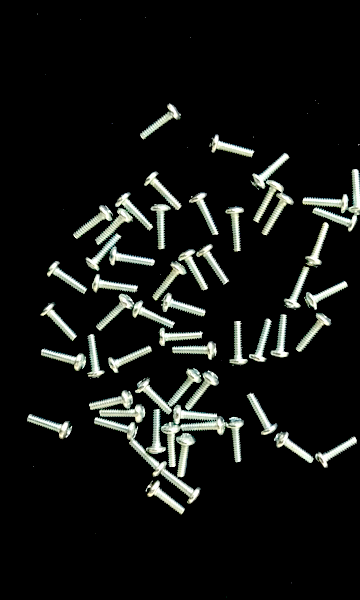shortscrew: (138, 103, 182, 140), (143, 170, 182, 211), (114, 192, 154, 231), (244, 392, 279, 436), (250, 153, 291, 190), (40, 301, 77, 342), (72, 204, 114, 240), (95, 294, 134, 332), (296, 313, 333, 353), (47, 261, 88, 297), (314, 437, 358, 470), (95, 207, 133, 245), (129, 439, 167, 477), (135, 378, 174, 415), (85, 233, 121, 273), (151, 262, 187, 302), (145, 481, 186, 516), (176, 249, 208, 293), (196, 243, 230, 284), (186, 370, 220, 411), (273, 431, 315, 464), (253, 180, 285, 223), (188, 192, 219, 236), (132, 299, 176, 330), (262, 194, 293, 237), (305, 281, 349, 311), (108, 346, 153, 375), (169, 368, 203, 406), (313, 206, 359, 234), (283, 265, 311, 311), (163, 471, 202, 504), (27, 414, 73, 441), (305, 222, 331, 269), (161, 292, 208, 318), (88, 387, 134, 412), (94, 417, 139, 442), (209, 134, 255, 158), (42, 348, 86, 373), (249, 318, 273, 363), (146, 409, 168, 455), (109, 246, 156, 267), (226, 206, 247, 252), (150, 204, 171, 250), (156, 327, 202, 348), (92, 274, 140, 294), (99, 404, 147, 424), (85, 335, 106, 380), (227, 321, 247, 368), (225, 416, 245, 463), (177, 432, 197, 478), (303, 195, 351, 214), (171, 405, 218, 424), (180, 417, 226, 436), (161, 422, 180, 468), (172, 341, 217, 360), (271, 314, 289, 360), (348, 170, 360, 216)
